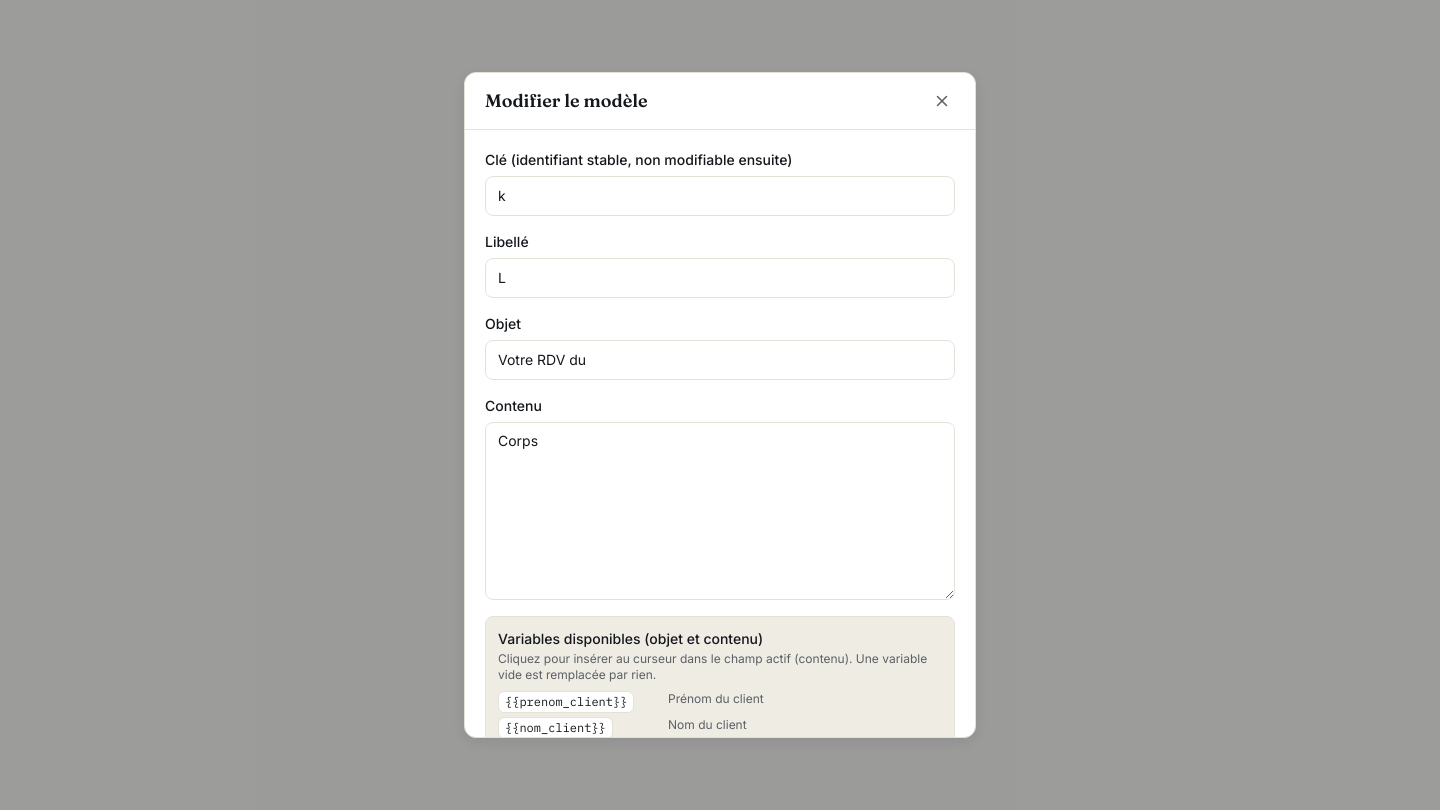
EmailTemplateFormModal — variables disponibles › objet actif : la variable va dans l'objet, au curseur, et le contenu ne bouge pas
Focus the field labelled "Objet" at x=720, y=360, box [485,340,955,380]
(page scrolled)
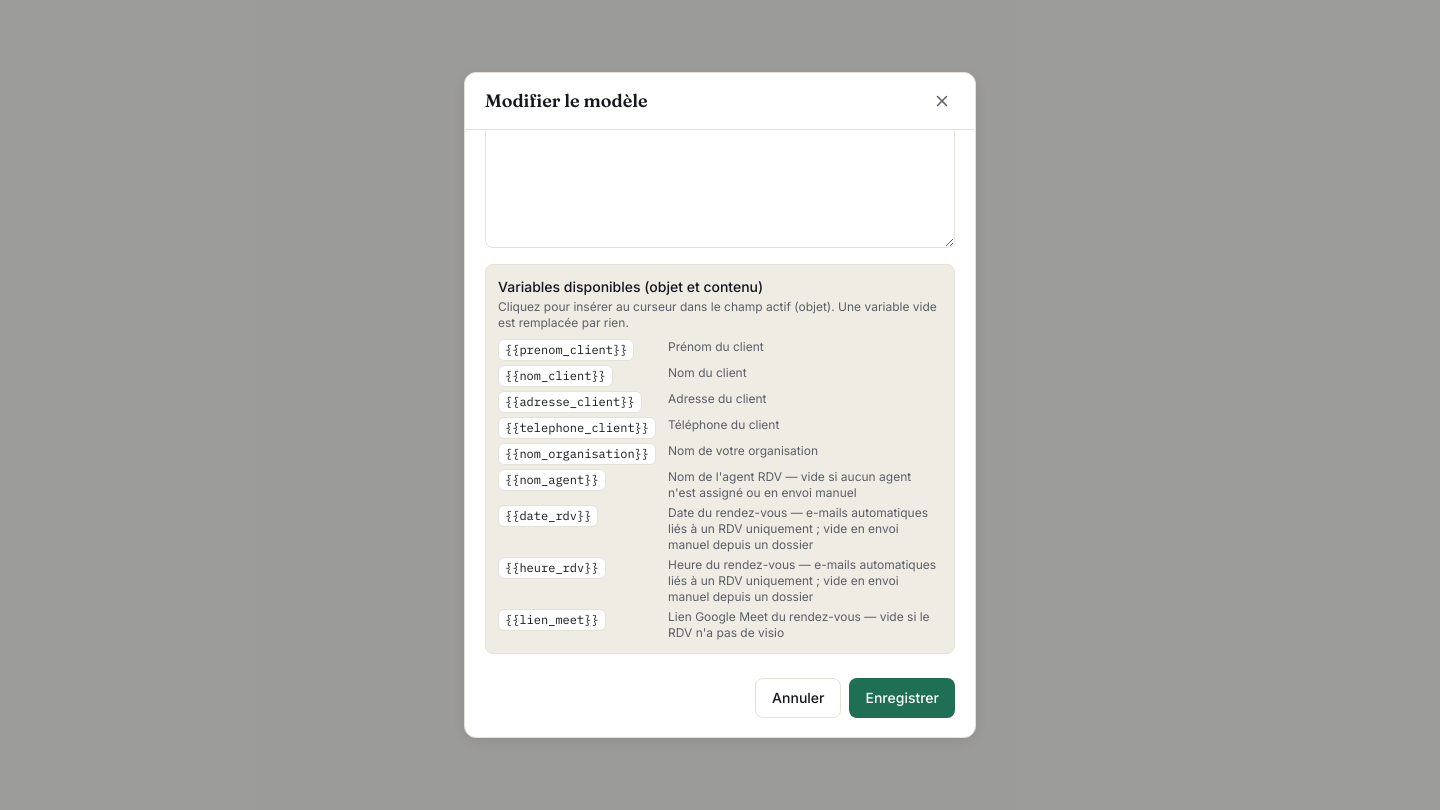
Click the button "{{date_rdv}}" at x=548, y=516, box [498,505,598,527]
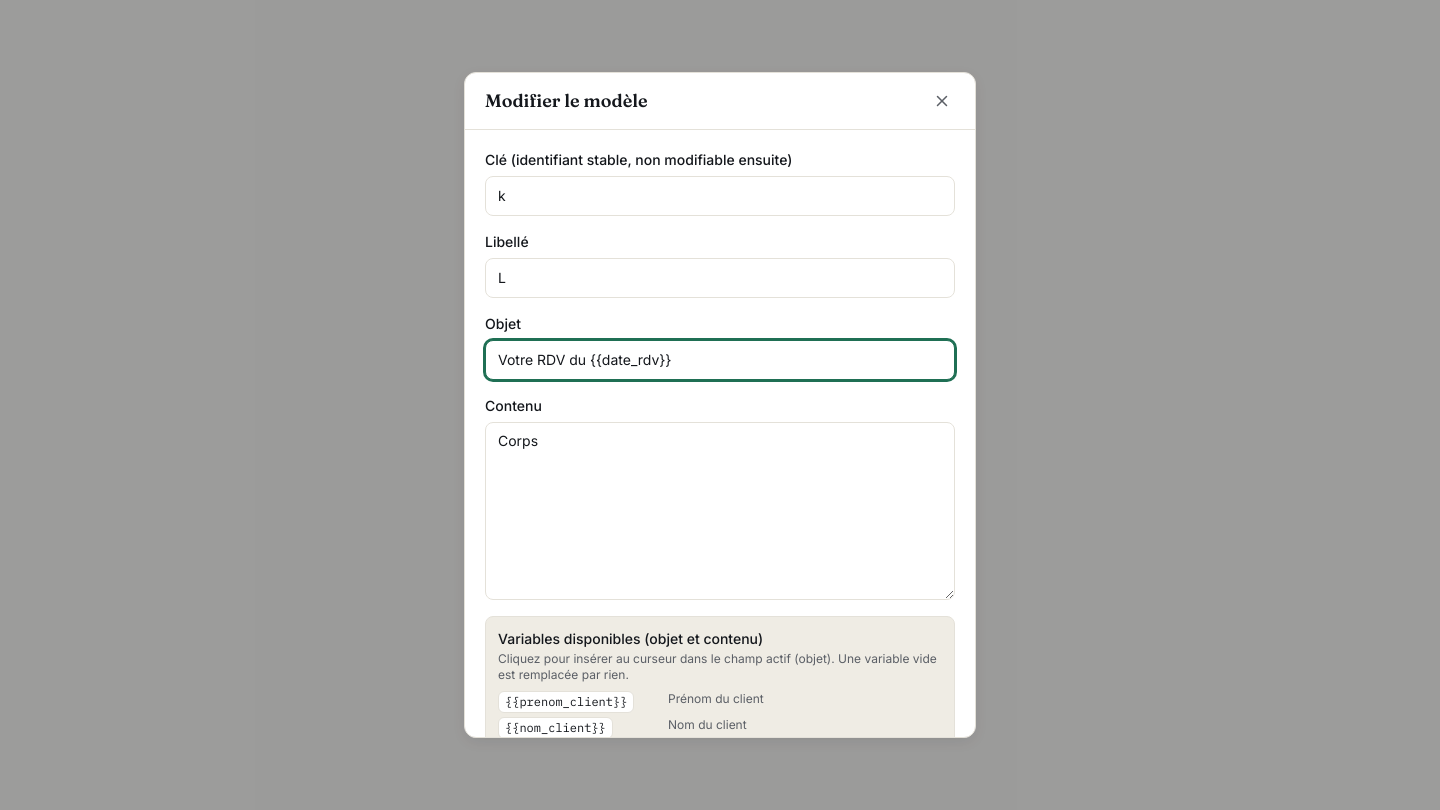
Check: the text box labelled "Contenu" holds "Corps", box [485,422,955,600]
Check: the field labelled "Objet" holds "Votre RDV du {{date_rdv}}", box [485,340,955,380]
